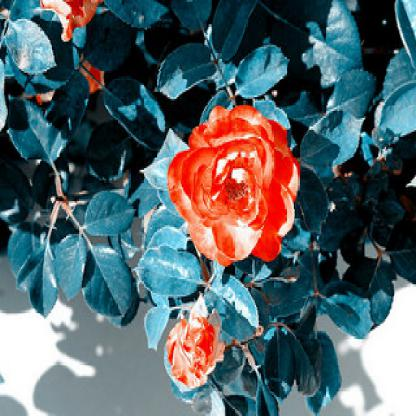Rose-Mawar: (164, 100, 307, 264), (145, 304, 244, 393)
